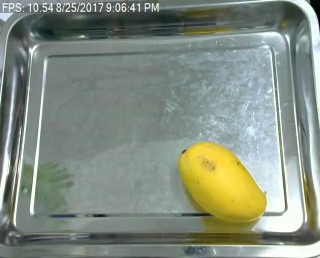Mango: (177, 133, 267, 226)
